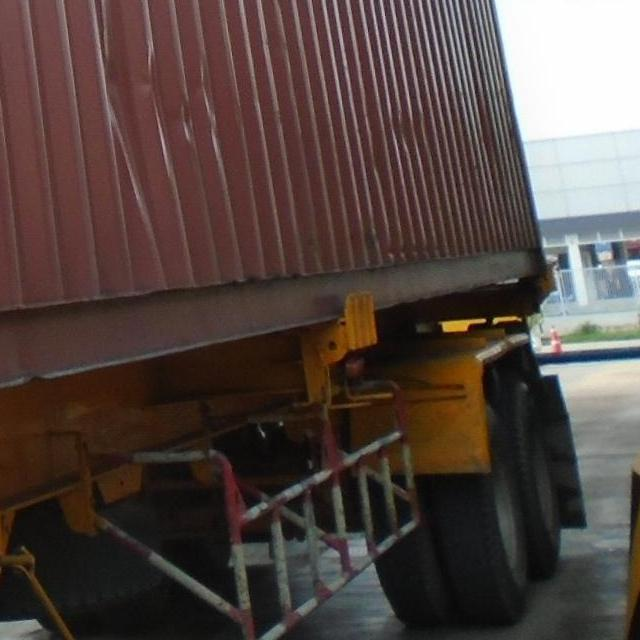dent: (91, 1, 224, 200)
